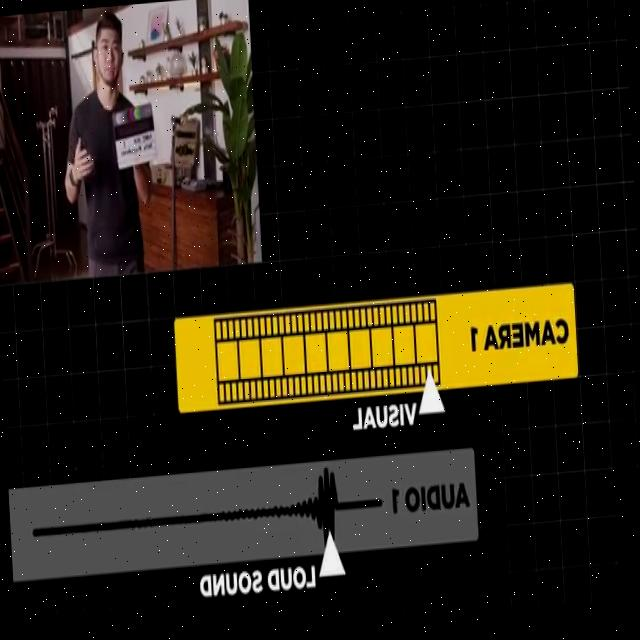Clapperboard: (111, 103, 157, 171)
